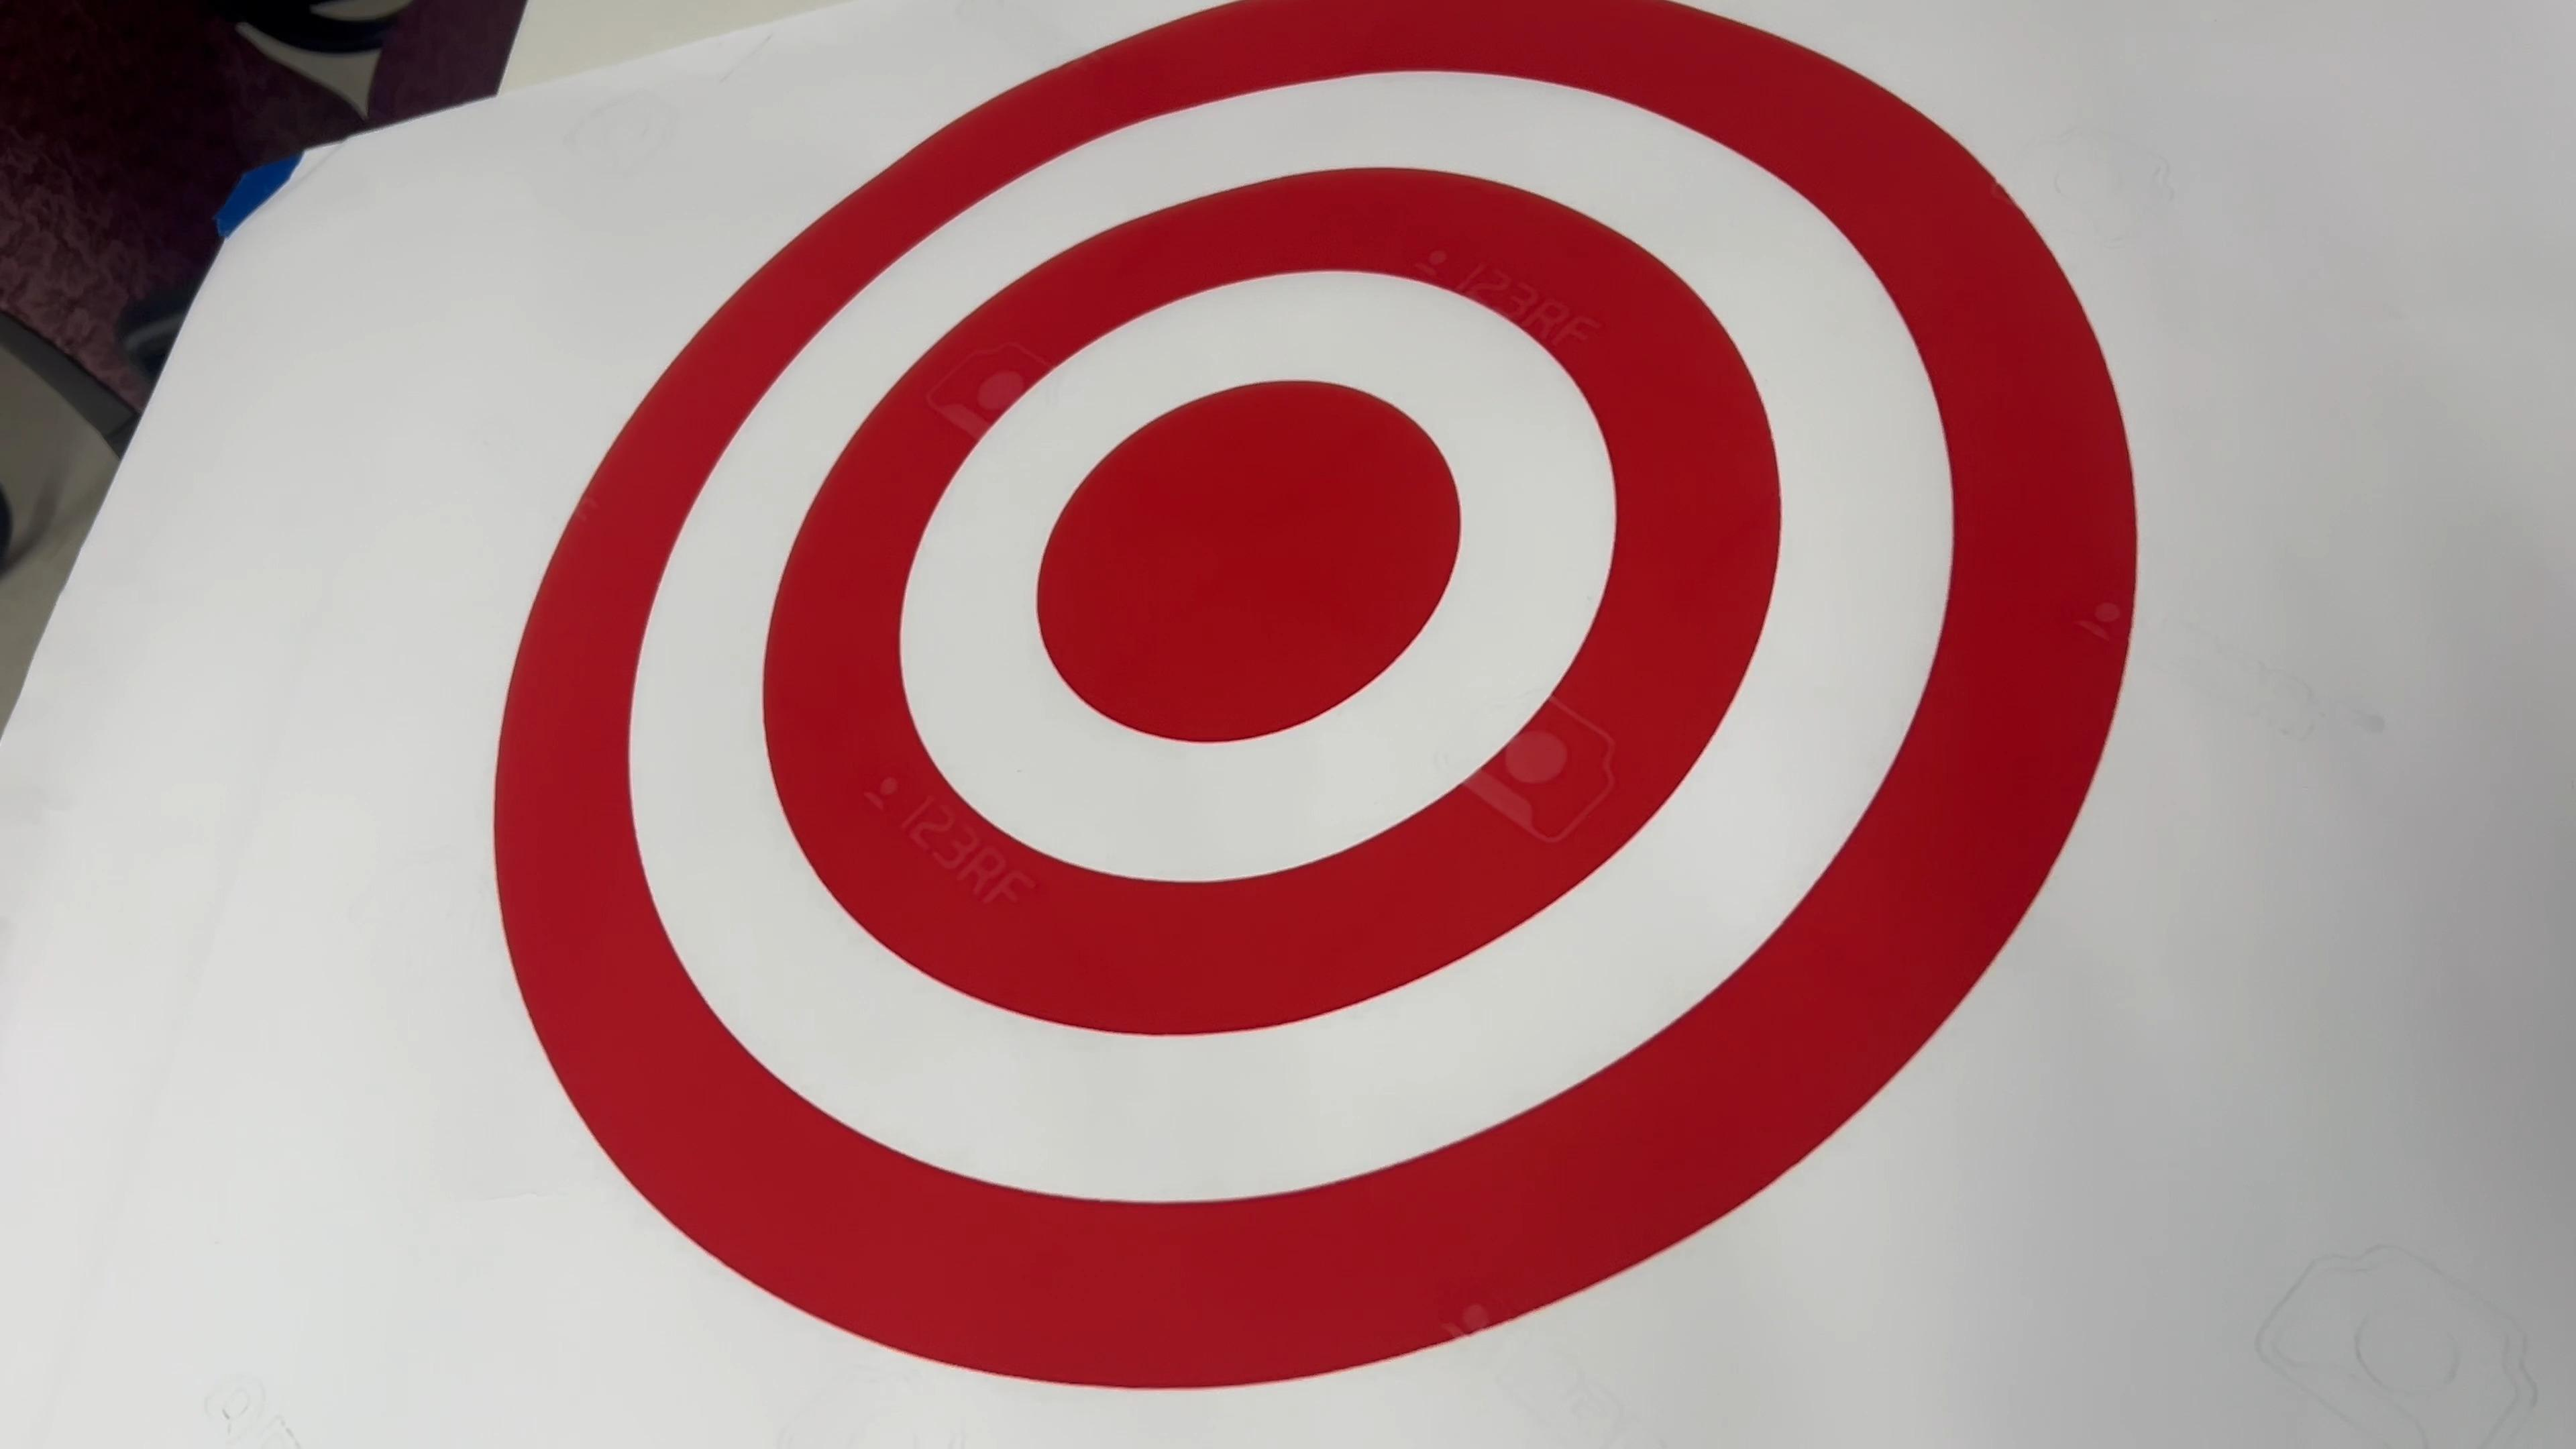target_red: (403, 0, 2323, 1449)
